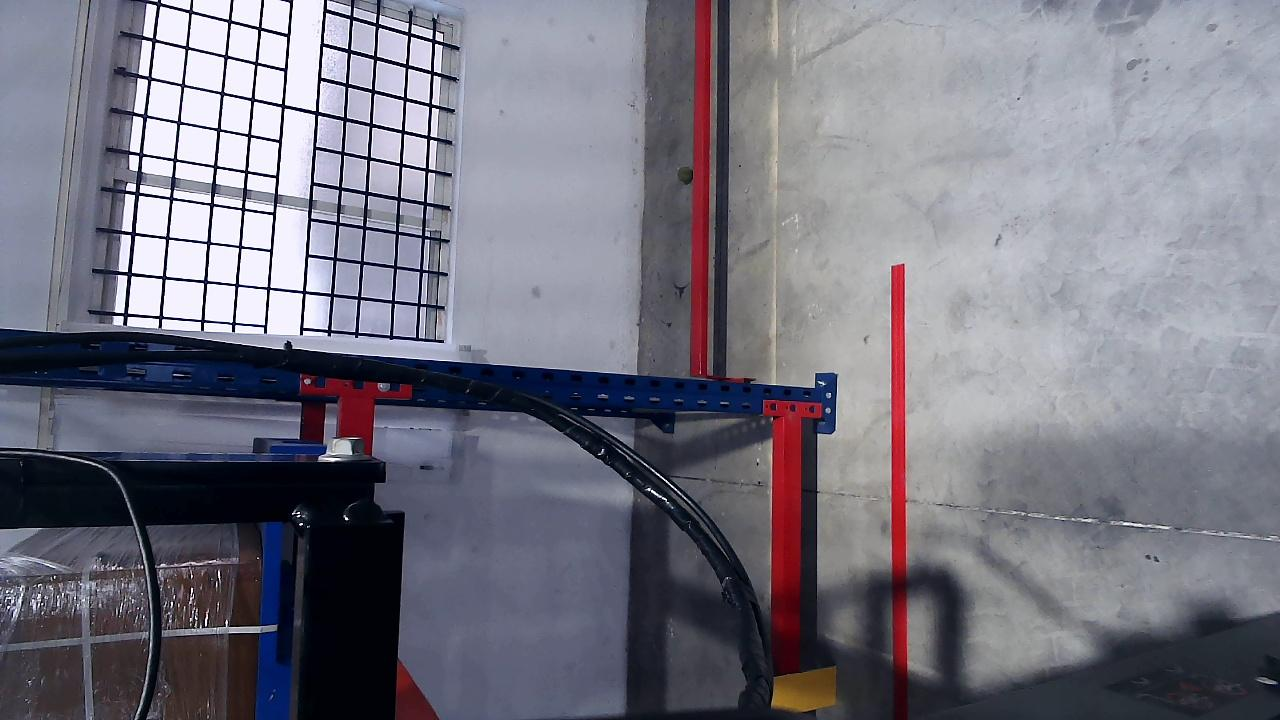h_rack: (770, 416, 804, 717)
orange_strip: (770, 666, 839, 712)
red_line: (886, 259, 908, 717)
